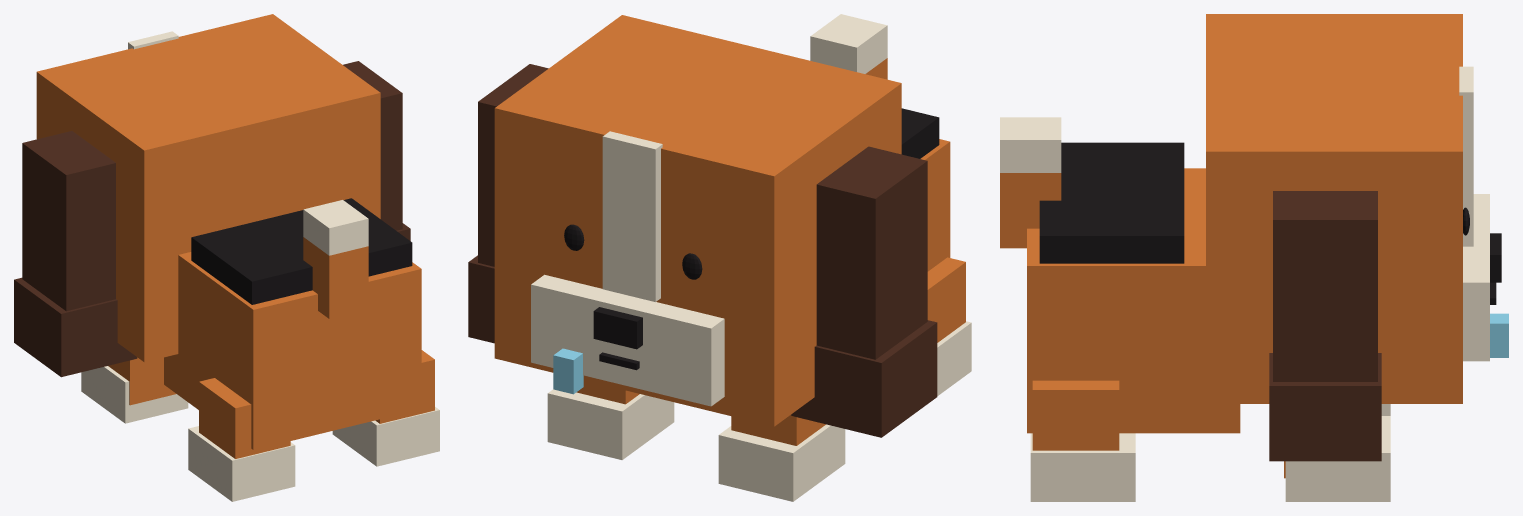
Rendered from Beagle_Block.obj.
3 renders of one model, left to right at view 1: azimuth 30°, elevation 25°; view 2: azimuth 150°, elevation 25°; view 3: azimuth 270°, elevation 25°, orthographic. The views are drawn at different scales.
Parts seen in each view (by area): view 1: NarrowHead, NarrowShortTorso, LongHangingEarL, BlackBackSaddle, SquareEarEndL, LegBL_Paw, LegBR_Paw, ShortTail, LongHangingEarR, LegBL_Leg, LegFL_Paw, WhiteTailEnd (+2 smaller); view 2: NarrowHead, LongHangingEarL, WhiteMuzzle, SquareEarEndL, WhiteCenterStripe, LegFL_Paw, LegFR_Paw, LongHangingEarR, WhiteTailEnd, NarrowShortTorso, LegBL_Leg, SquareEarEndR (+6 smaller); view 3: NarrowHead, NarrowShortTorso, LongHangingEarR, BlackBackSaddle, SquareEarEndR, LegBR_Leg, LegBR_Paw, LegFR_Paw, WhiteMuzzle, WhiteTailEnd, ShortTail, WhiteCenterStripe (+2 smaller).
Boxes of the visible parts, x1,y1,x2,y2 form: NarrowHead: (36,14,380,362); NarrowShortTorso: (164,252,421,449); LongHangingEarL: (22,131,115,311); BlackBackSaddle: (191,198,412,304); SquareEarEndL: (14,277,137,377); LegBL_Paw: (188,426,295,501); LegBR_Paw: (332,407,439,466); ShortTail: (303,237,368,318); LongHangingEarR: (343,61,402,230); LegBL_Leg: (199,378,290,458); LegFL_Paw: (81,366,188,423); WhiteTailEnd: (303,200,368,255); NarrowHead: (494,15,901,426); LongHangingEarL: (816,146,927,359); WhiteMuzzle: (531,274,724,406); SquareEarEndL: (791,320,937,437); WhiteCenterStripe: (602,131,662,301); LegFL_Paw: (718,424,845,501); LegFR_Paw: (547,389,674,459); LongHangingEarR: (478,64,548,266); WhiteTailEnd: (810,14,887,73); NarrowShortTorso: (920,139,950,271); LegBL_Leg: (927,257,965,342); SquareEarEndR: (468,255,494,343); NarrowHead: (1206,14,1462,403); NarrowShortTorso: (1027,168,1240,433); LongHangingEarR: (1273,191,1377,381); BlackBackSaddle: (1039,142,1184,263); SquareEarEndR: (1269,353,1381,461); LegBR_Leg: (1032,380,1119,450); LegBR_Paw: (1030,433,1135,501); LegFR_Paw: (1285,416,1390,501); WhiteMuzzle: (1463,194,1489,361); WhiteTailEnd: (1000,117,1061,172); ShortTail: (1000,173,1061,248); WhiteCenterStripe: (1459,66,1473,246).
Size of the model in its own units: 2.66 by 2.21 by 2.81.
